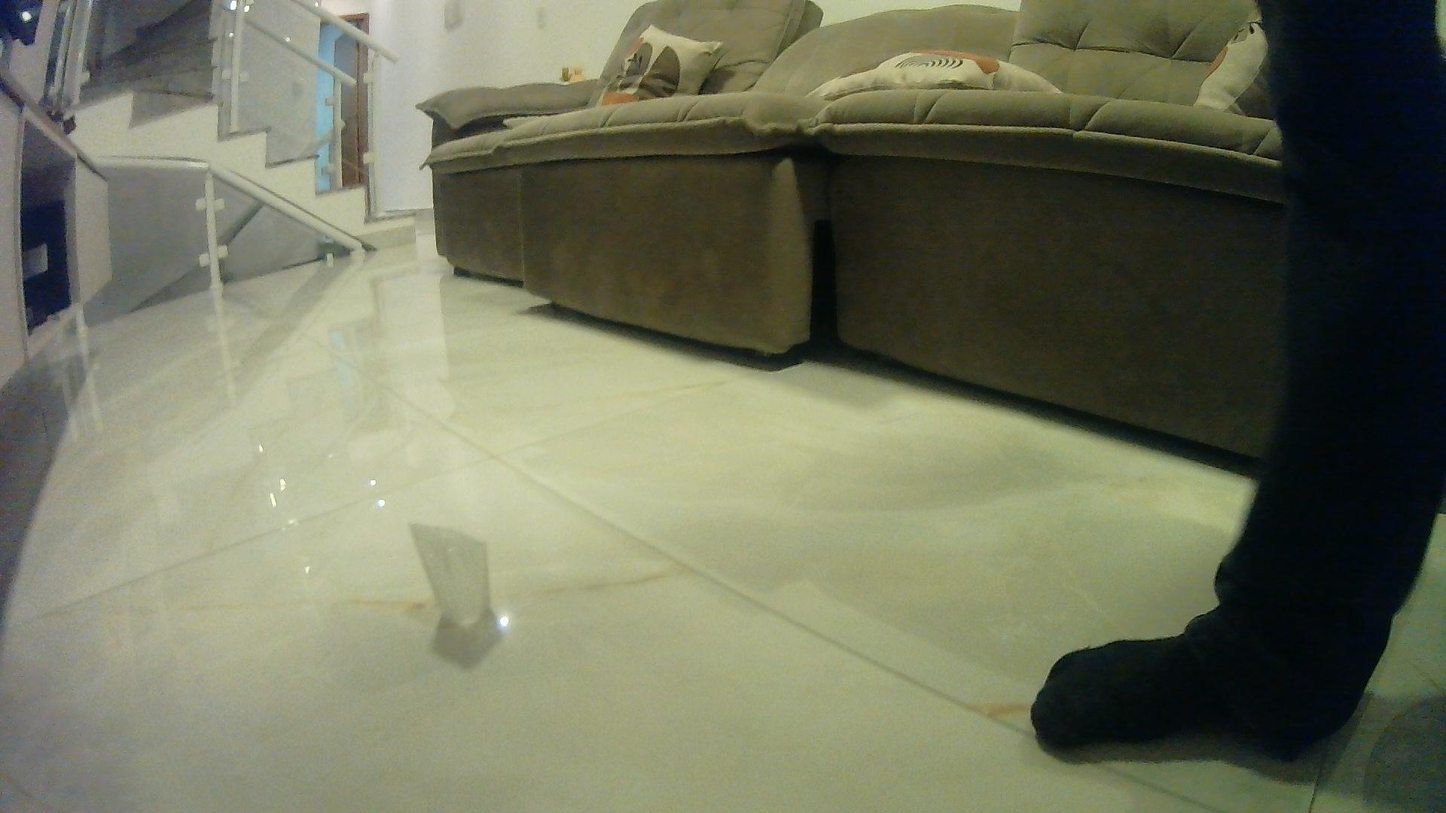vaso_redondo: (404, 518, 496, 631)
